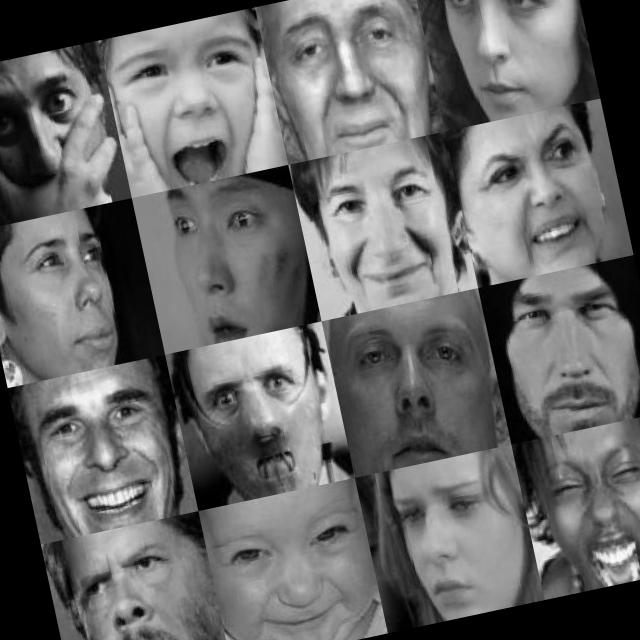angry: (454, 106, 628, 274), (174, 328, 344, 484), (490, 267, 640, 432), (416, 0, 599, 127), (46, 522, 220, 640)
fear: (99, 9, 284, 196), (135, 168, 315, 351), (0, 43, 116, 225)
happy: (10, 360, 190, 541), (292, 140, 473, 318), (210, 490, 383, 640), (523, 423, 640, 597)
neutral: (328, 293, 501, 472), (0, 199, 153, 379)
sad: (256, 0, 439, 162), (372, 460, 532, 629)
